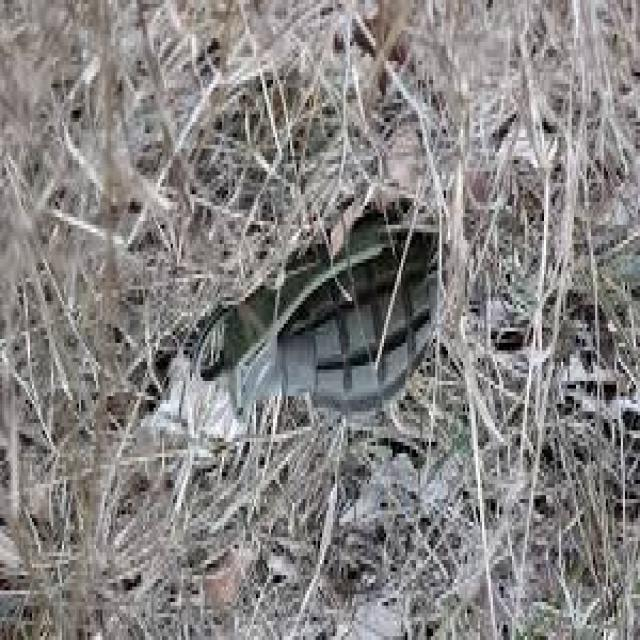grenade: (185, 214, 455, 435)
